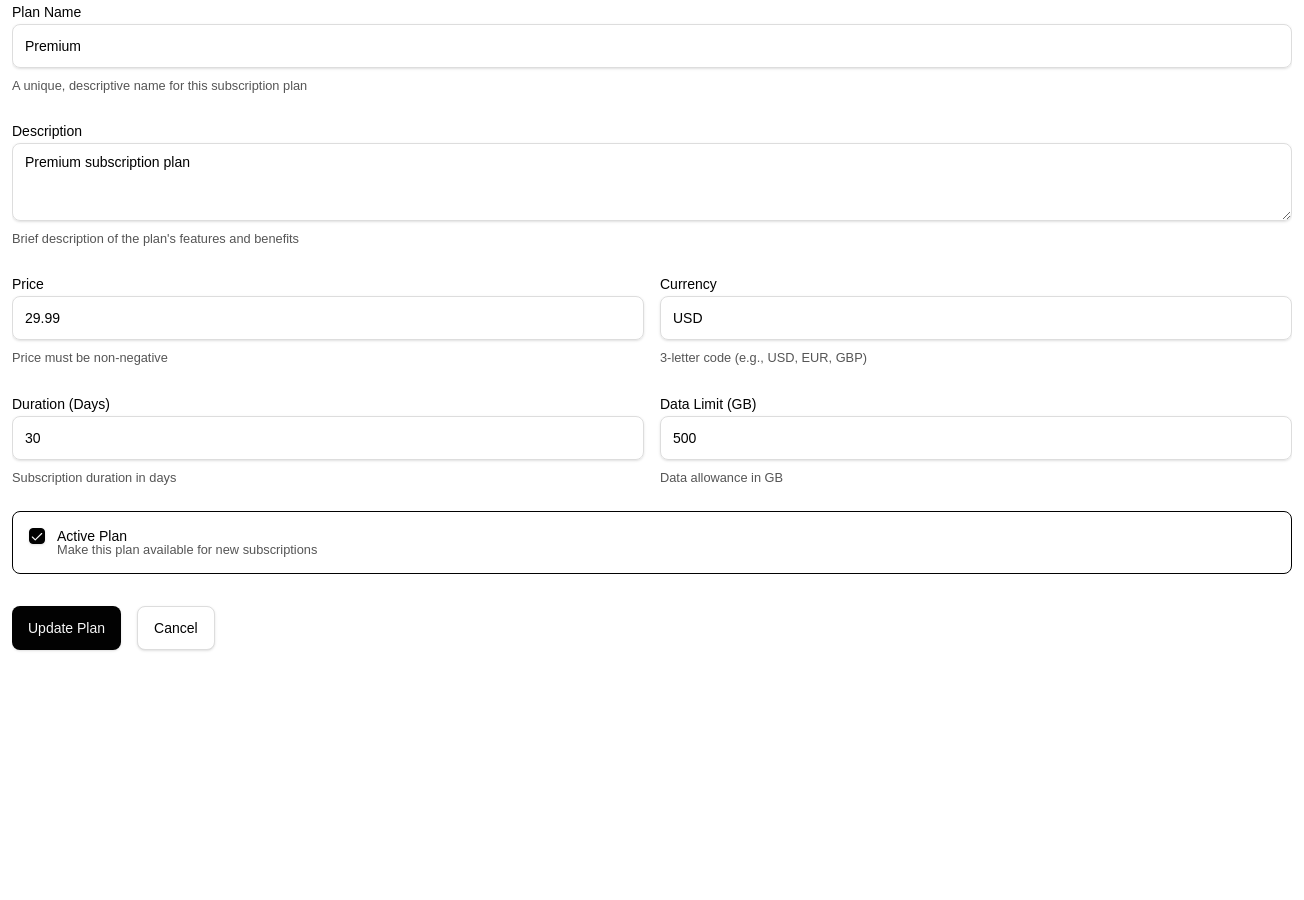
Test: PlanEditForm › validates plan name is required
Clear the field labelled "Plan Name": (652, 46) [12,24,1292,68]
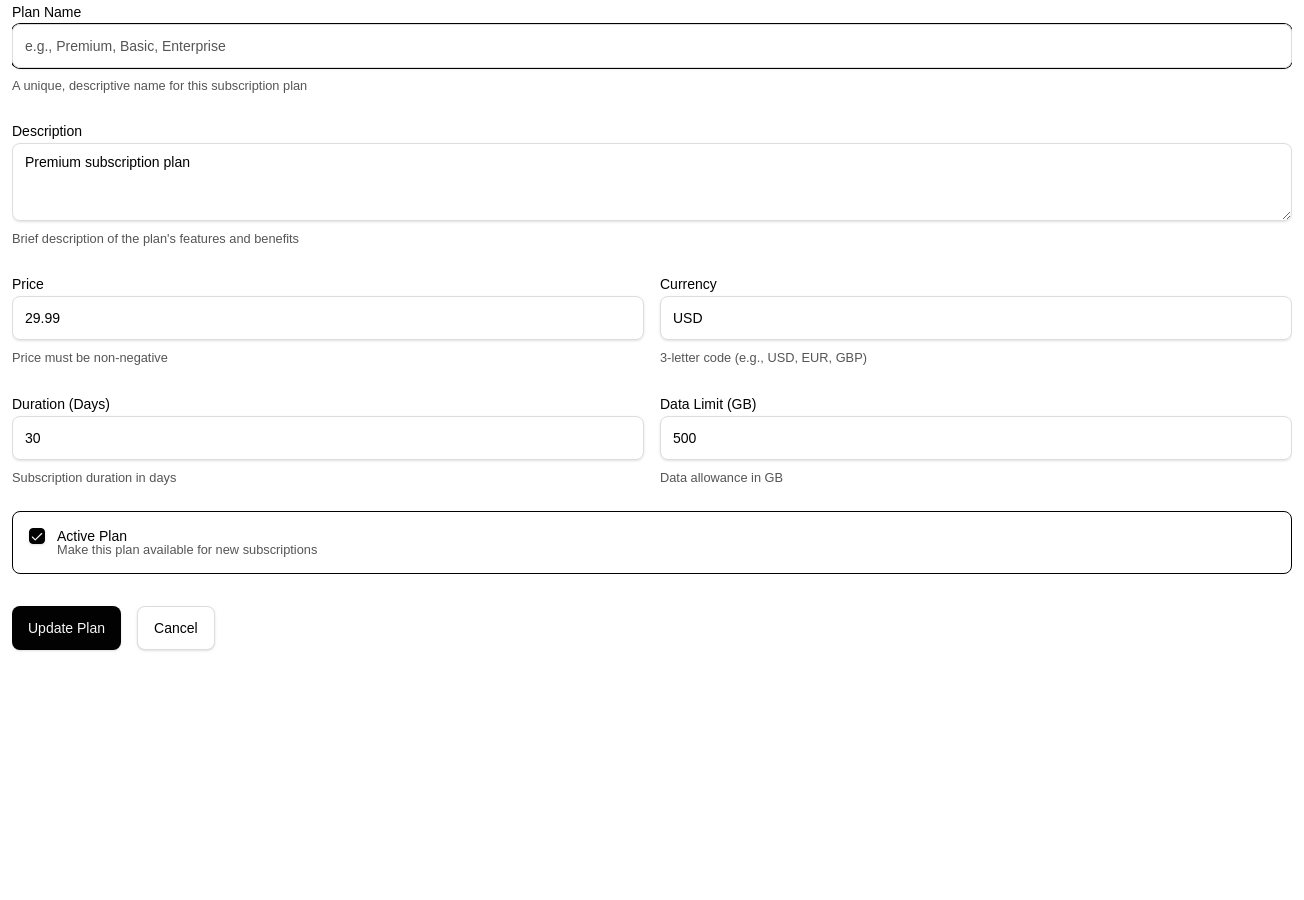
Click the button "Update Plan": click(67, 628) [12,606,121,650]
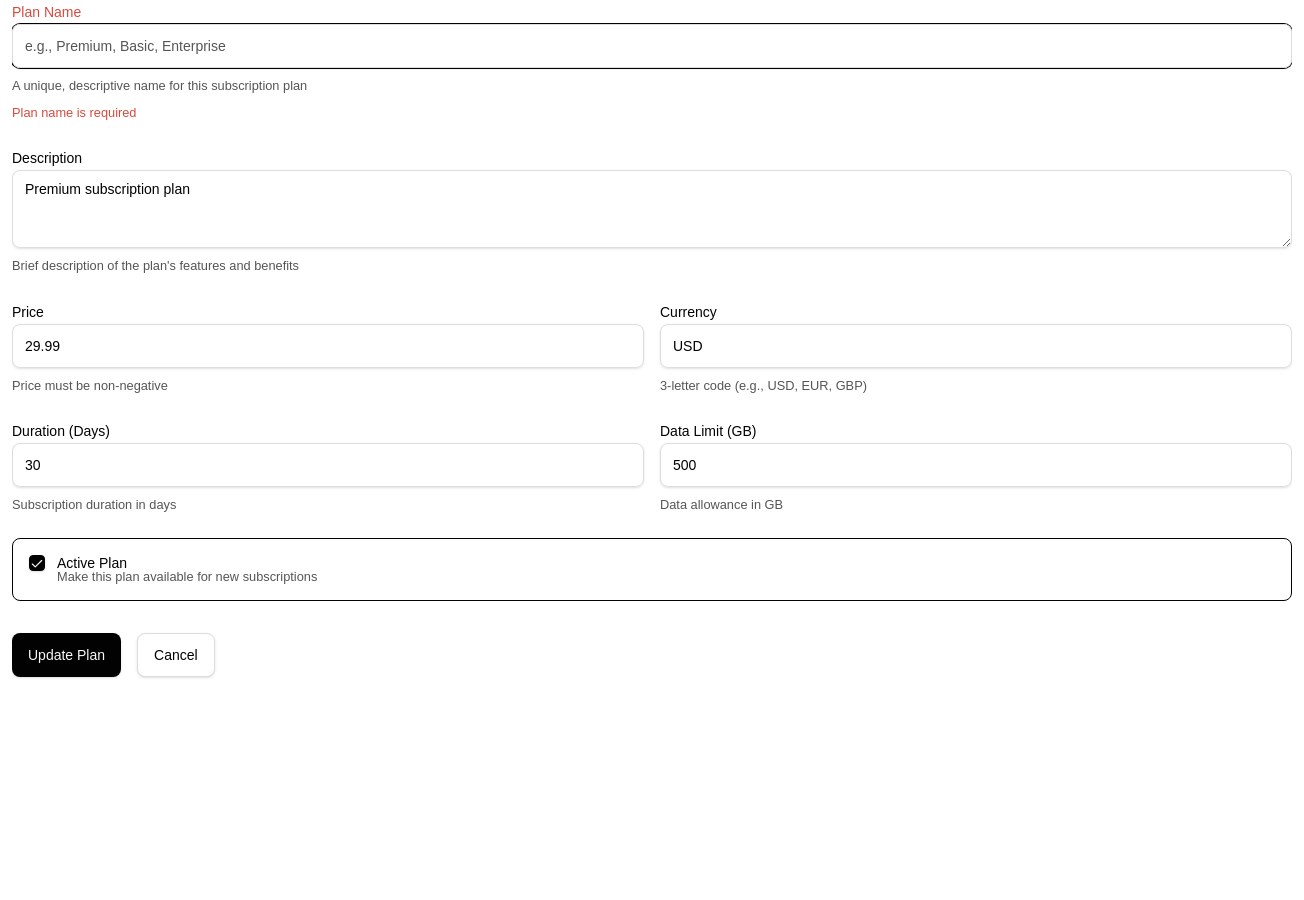
Now the text "Plan name is required" is shown, box [12,105,136,120]
